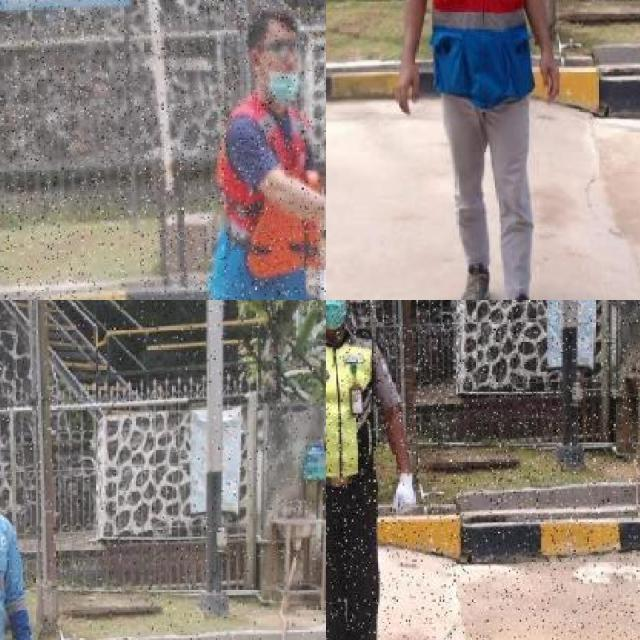apron: (390, 468, 420, 516), (314, 264, 326, 300)
